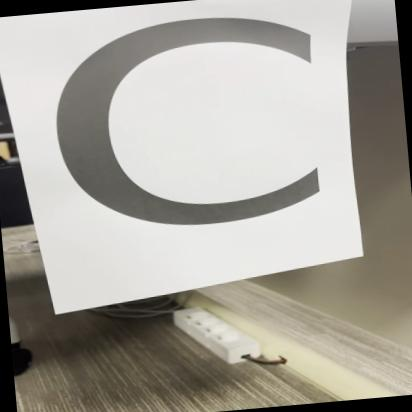seat: (21, 0, 366, 284)
